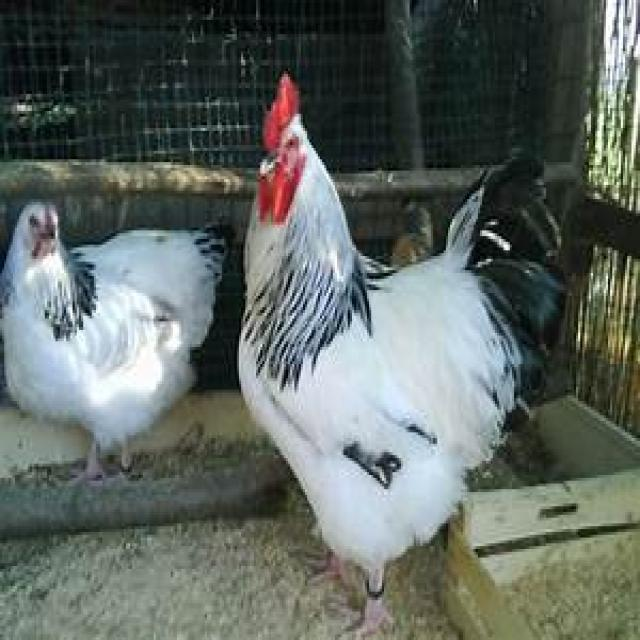animal: (233, 87, 591, 621), (9, 171, 226, 476)
